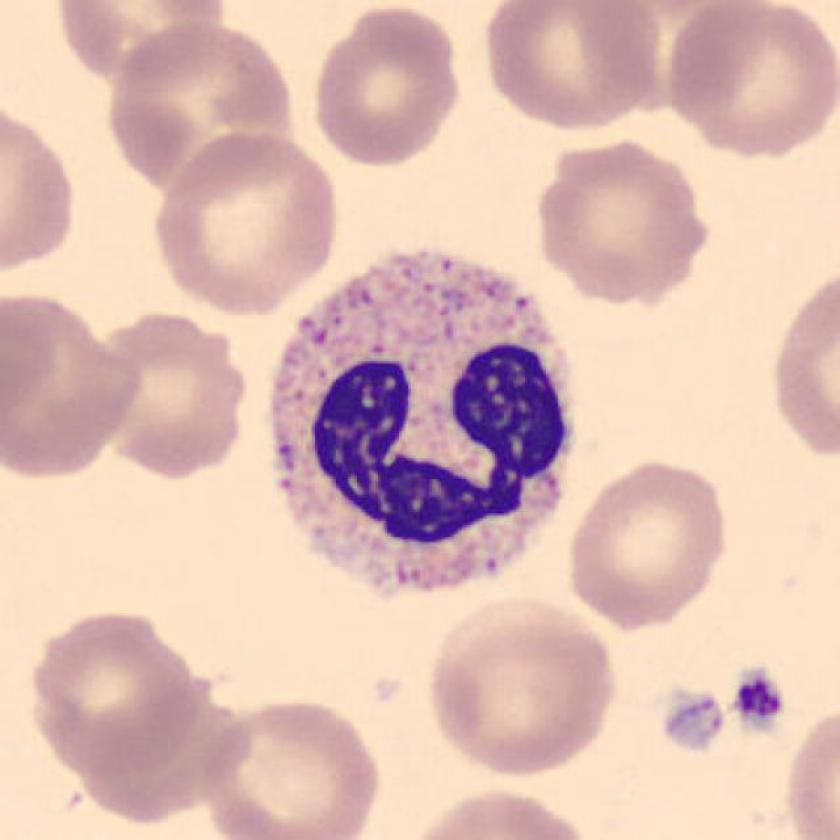neutrophil: (269, 249, 576, 598)
